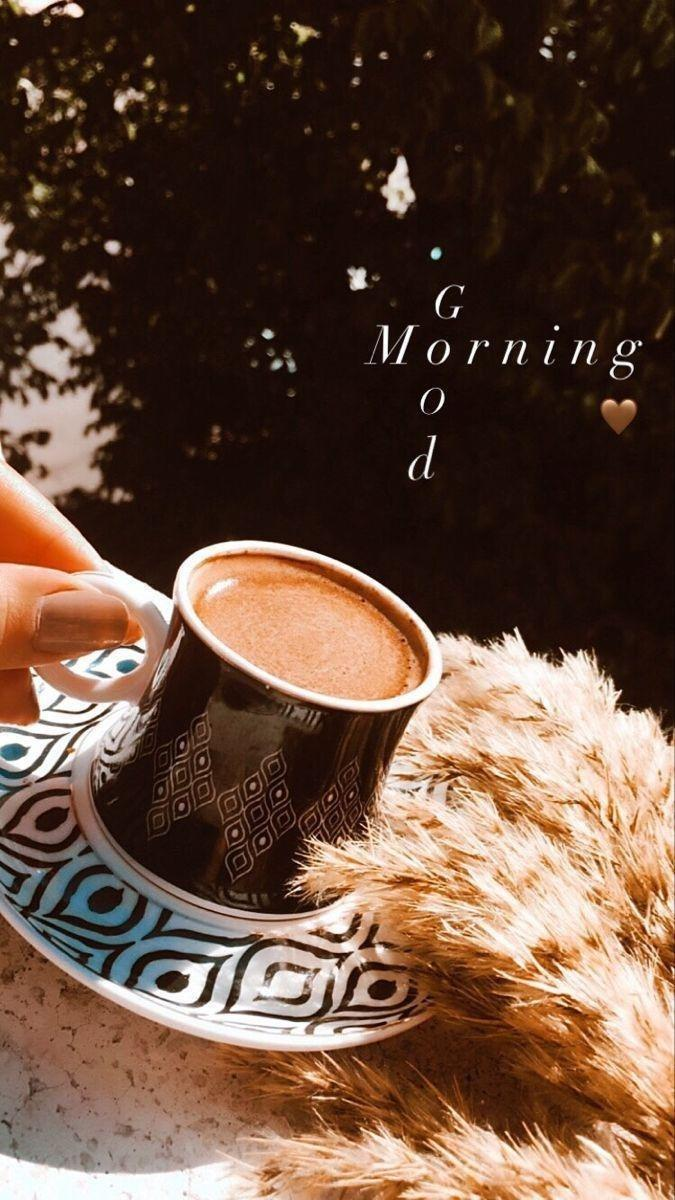cup-handle: (32, 539, 447, 933)
